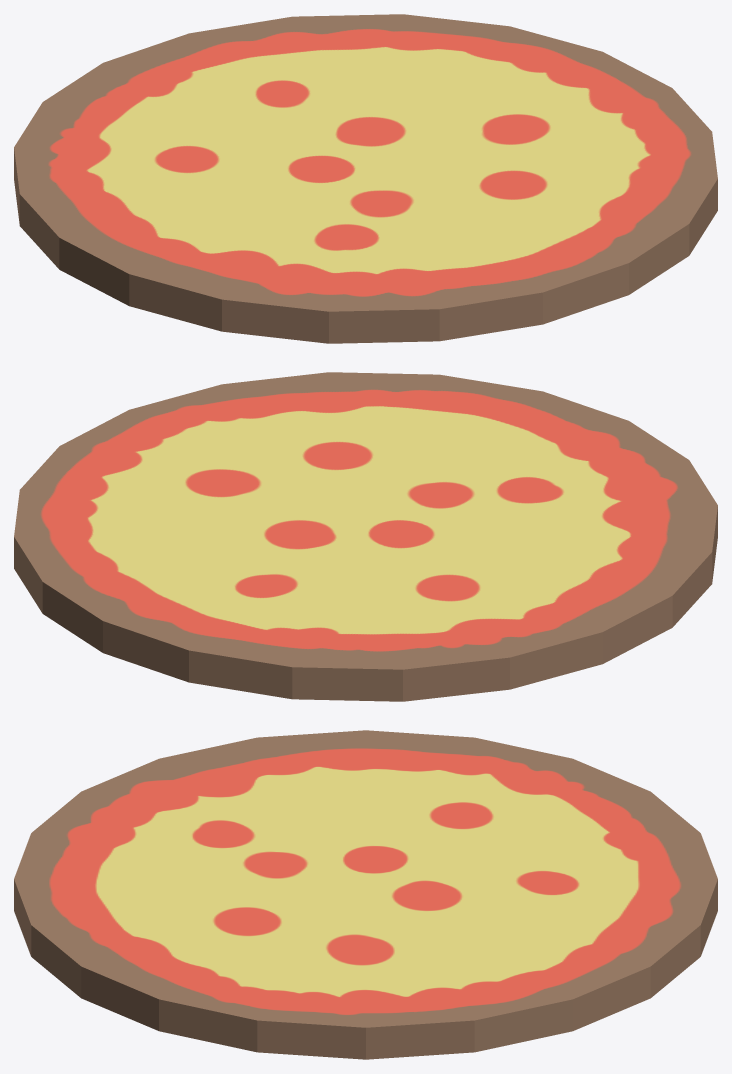
Rendered from pizza.fbx.
3 views of the same model, one above another, from view 1: azimuth 30°, elevation 25°; view 2: azimuth 150°, elevation 25°; view 3: azimuth 270°, elevation 25° (orthographic).
Visible parts, largest first — view 1: pizza; view 2: pizza; view 3: pizza.
Boxes of the visible parts, x1,y1,x2,y2 form: pizza: [14, 14, 717, 343]; pizza: [14, 372, 717, 701]; pizza: [14, 730, 717, 1059].
Bounding box in the file's own units: 25 × 1.25 × 25.
